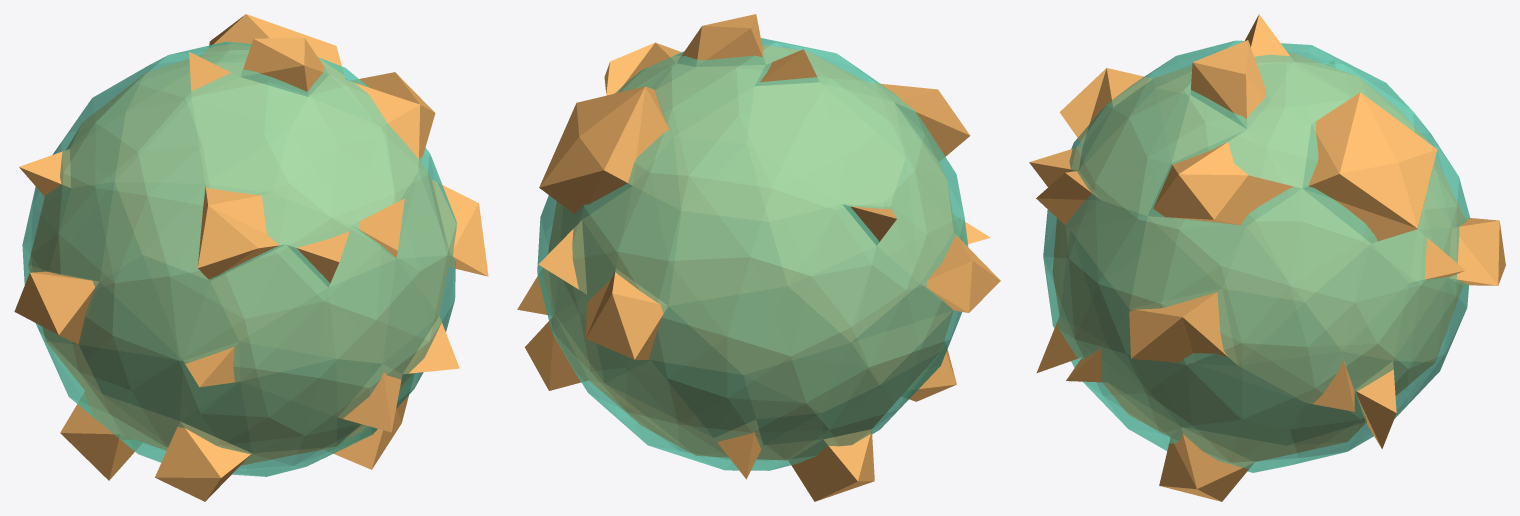
File: water_planet7.fbx
The picture shows the model from 3 angles, left to right: view 1: azimuth 30°, elevation 25°; view 2: azimuth 150°, elevation 25°; view 3: azimuth 270°, elevation 25°; orthographic projection.
Visible parts, largest first — view 1: water_planet7; view 2: water_planet7; view 3: water_planet7.
Boxes of the visible parts, x1,y1,x2,y2 form: water_planet7: [14, 14, 488, 501]; water_planet7: [517, 14, 1000, 501]; water_planet7: [1029, 14, 1505, 501].
Bounding box in the file's own units: 219 × 213 × 217.
